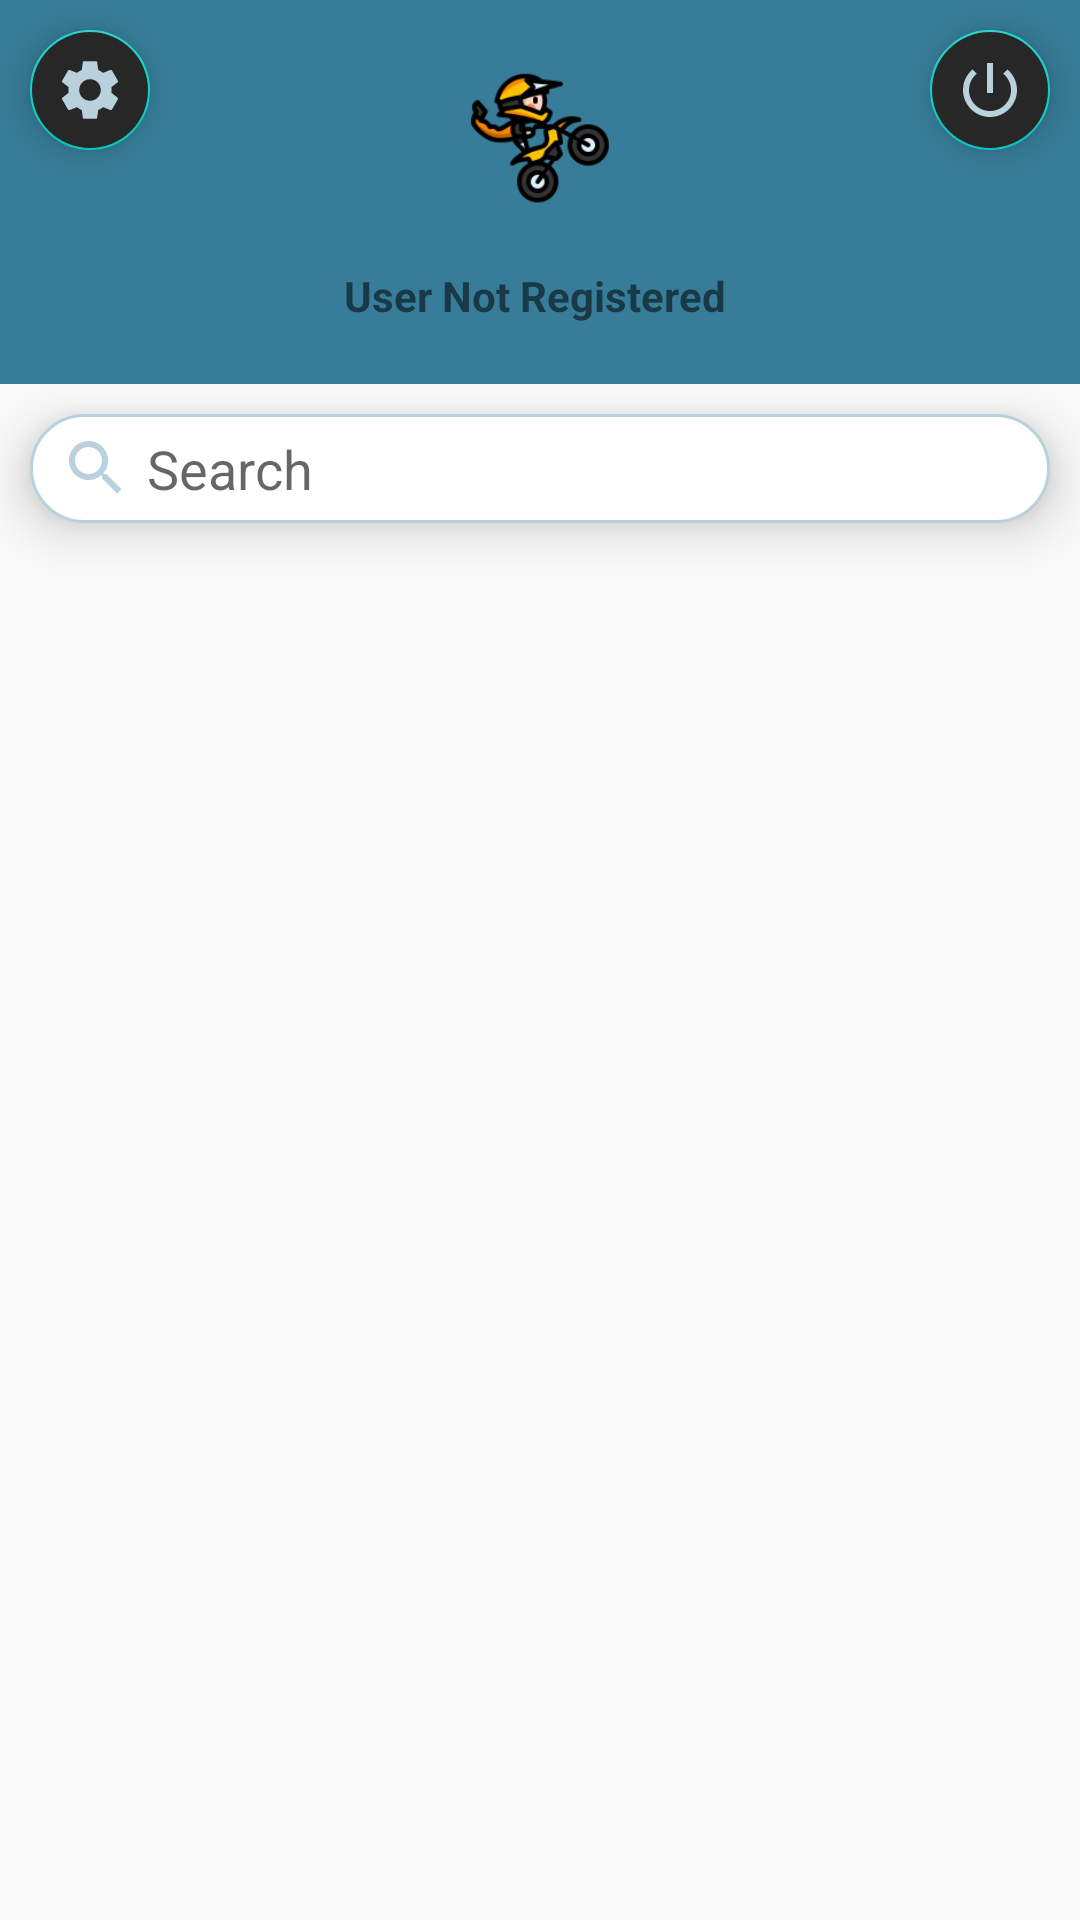

Icon bounding boxes for this 1080 x 1920 phone screenshot, format (x1, y1, x2, y2):
motocross: (471, 73, 609, 203)
power settings: (930, 30, 1050, 150)
settings: (30, 30, 150, 150)
